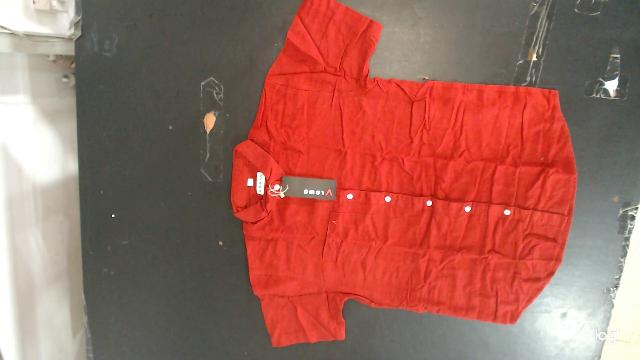new-garment: (231, 0, 577, 346)
